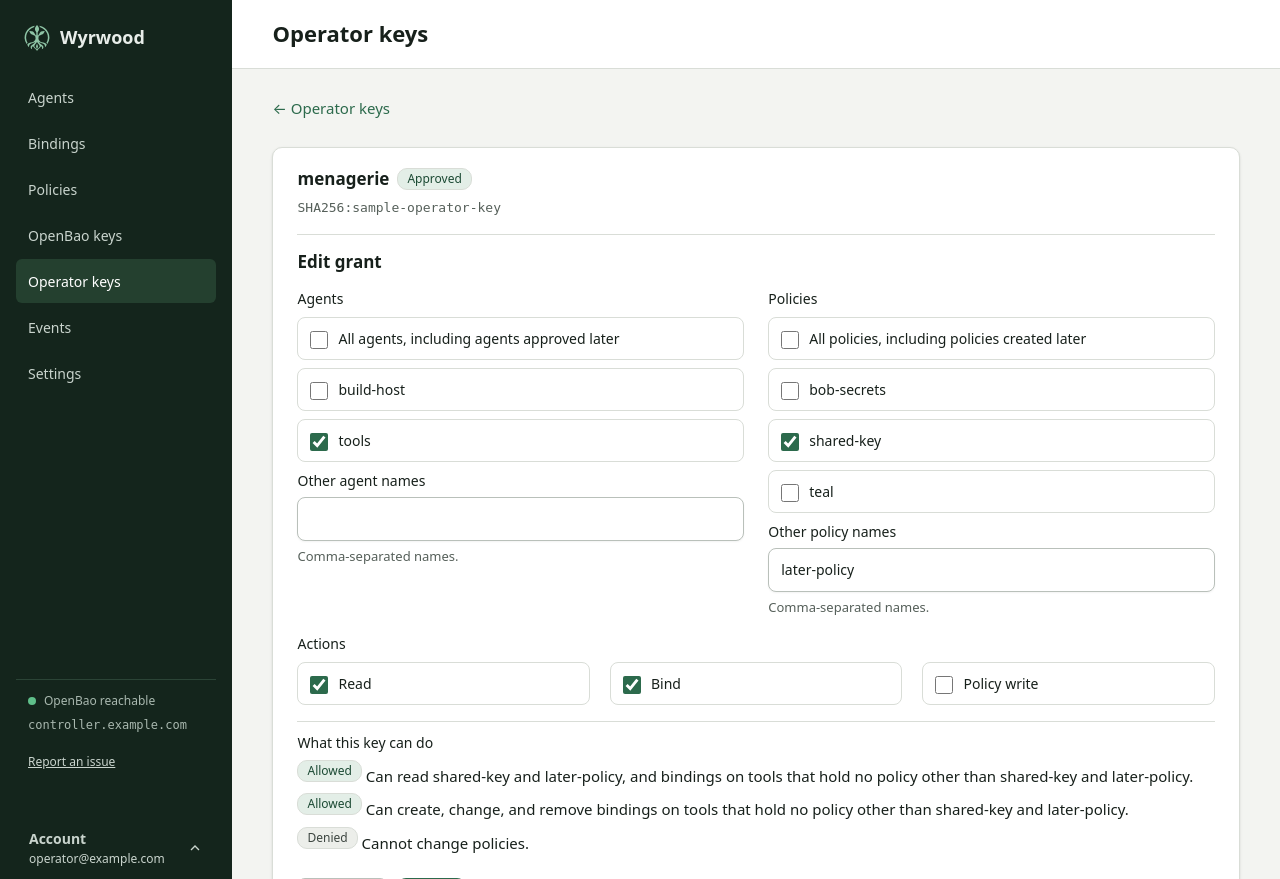
updates what the key can do on each change and posts the edit
The width and height of the screenshot is (1280, 879).
Click the checkbox labelled "bob-secrets".
click(790, 391)  # box left=781, top=382, right=799, bottom=400
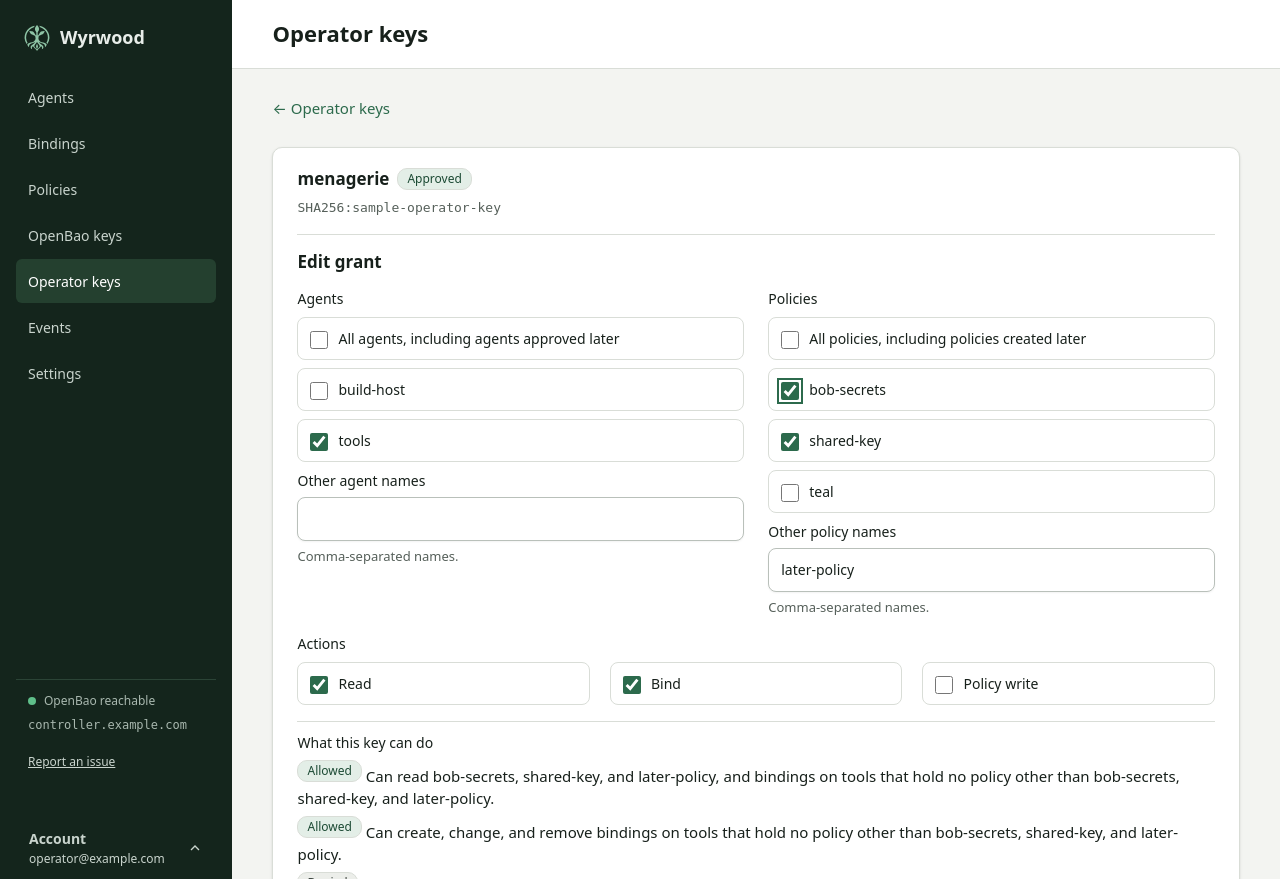
Click the checkbox labelled "Policy write".
click(944, 685)  # box left=936, top=676, right=954, bottom=694
(page scrolled)
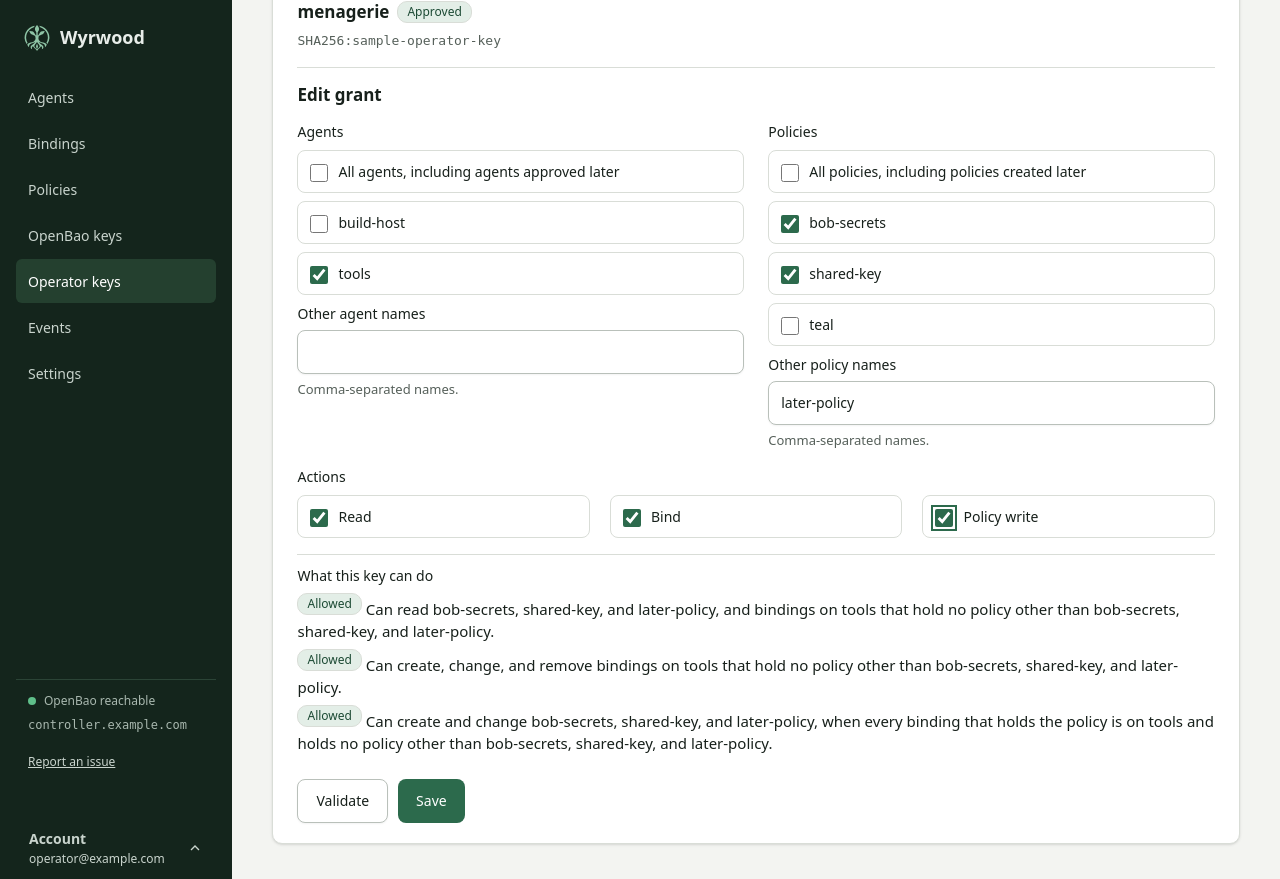
Expected: the element "What this key can do" shows "Can read bob-secrets, shared-key, and later-policy, and bindings on tools that hold no policy other than bob-secrets, shared-key, and later-policy.", left=298, top=599, right=1180, bottom=641
Expected: the element "What this key can do" shows "Can create and change bob-secrets", left=298, top=711, right=1214, bottom=753
